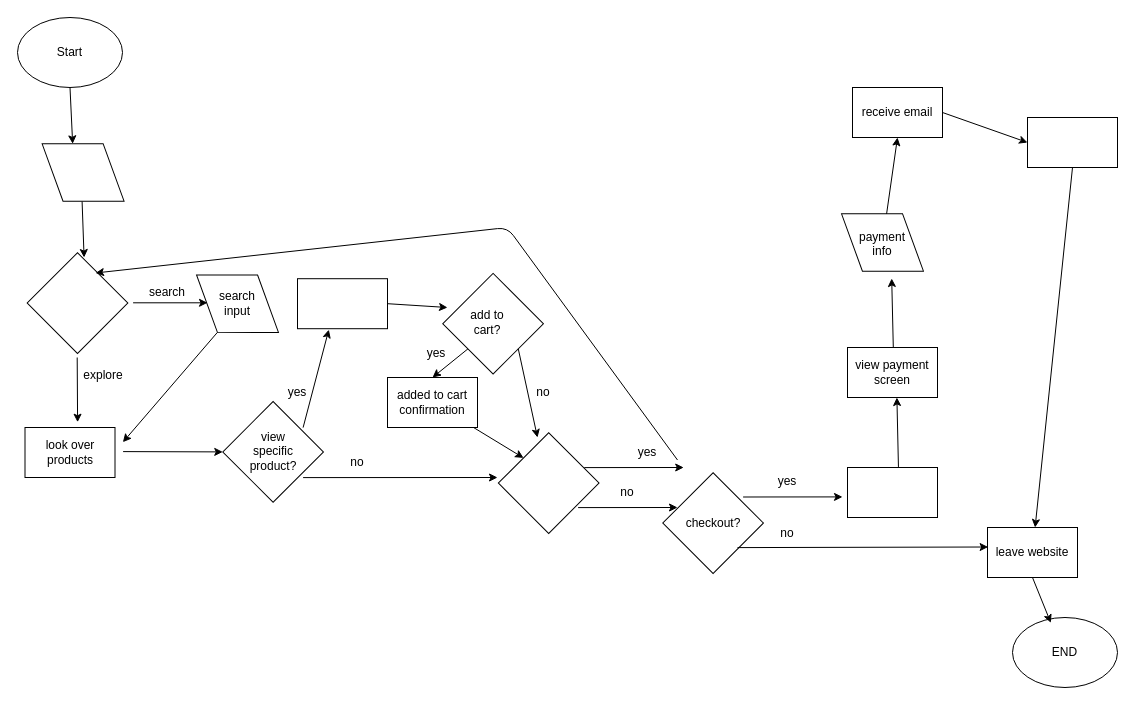
The diagram is 1135 pixels wide and 705 high, and some of its shapes have lost their labels. The shapes that lost their labels are listed below. From the top down, each one's centre as x and y in pixels, then its label:
At point (1072, 142): "order confirmation screen".
At point (82, 172): "enter website".
At point (77, 303): "search/explore products?".
At point (342, 303): "open webpage".
At point (548, 483): "continue shopping?".
At point (892, 492): "view cart screen".
